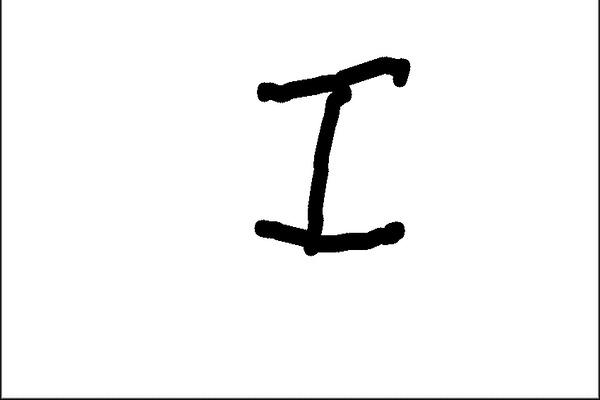i: (245, 43, 416, 265)
